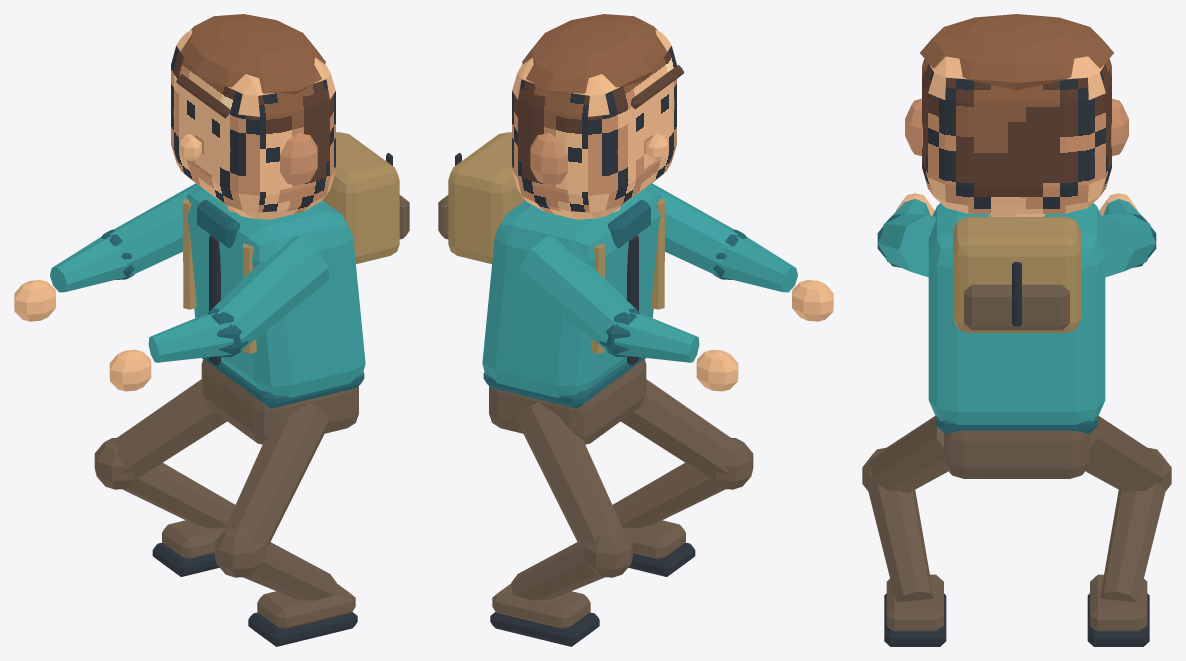
The model's file is rider-reference.glb.
The picture shows the model from 3 angles, left to right: view 1: azimuth 30°, elevation 25°; view 2: azimuth 150°, elevation 25°; view 3: azimuth 270°, elevation 25°; orthographic projection. The views are drawn at different scales.
Visible parts, largest first — view 1: Explorer_static_seated; view 2: Explorer_static_seated; view 3: Explorer_static_seated.
Boxes of the visible parts, x1=… form: Explorer_static_seated: x1=14, y1=14, x2=409, y2=646; Explorer_static_seated: x1=438, y1=14, x2=833, y2=646; Explorer_static_seated: x1=862, y1=14, x2=1171, y2=646.
Size of the model in its own units: 15.95 by 26 by 12.17.
1 material, 1 textured.
